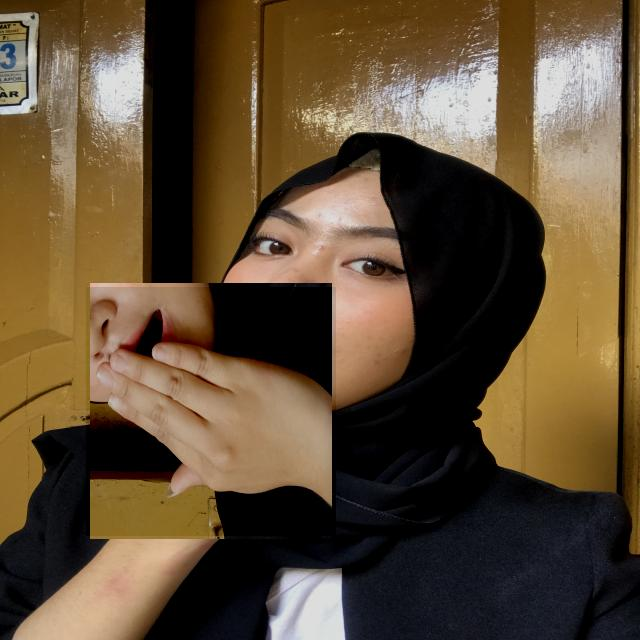ngantuk: (86, 287, 336, 536)
